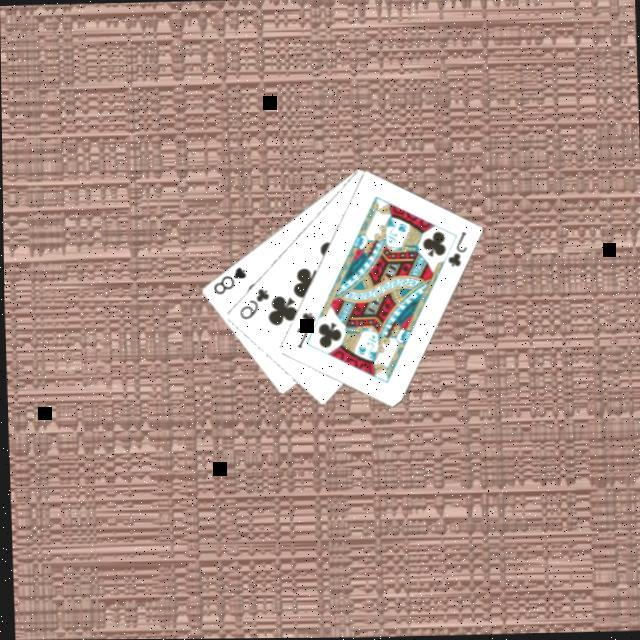8S: (210, 262, 250, 296)
9C: (235, 283, 272, 322)
JC: (292, 308, 319, 350), (444, 228, 471, 270)
